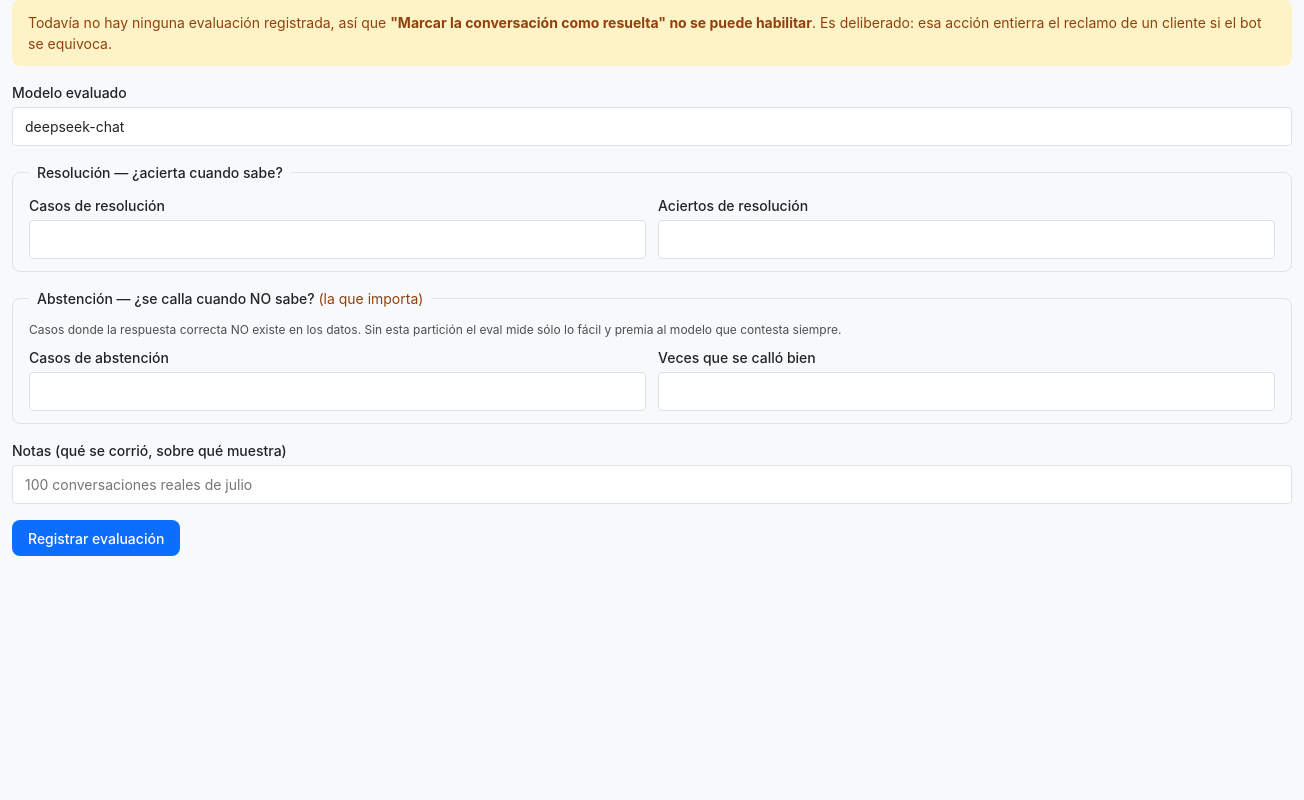
Test: AssistantEvalCard — el formulario exige medir abstención › con abstención en 0 NO deja registrar
Type "80" into the field labelled "Casos de resolución" at (338, 240), box top-left (29, 220), bottom-right (646, 259)
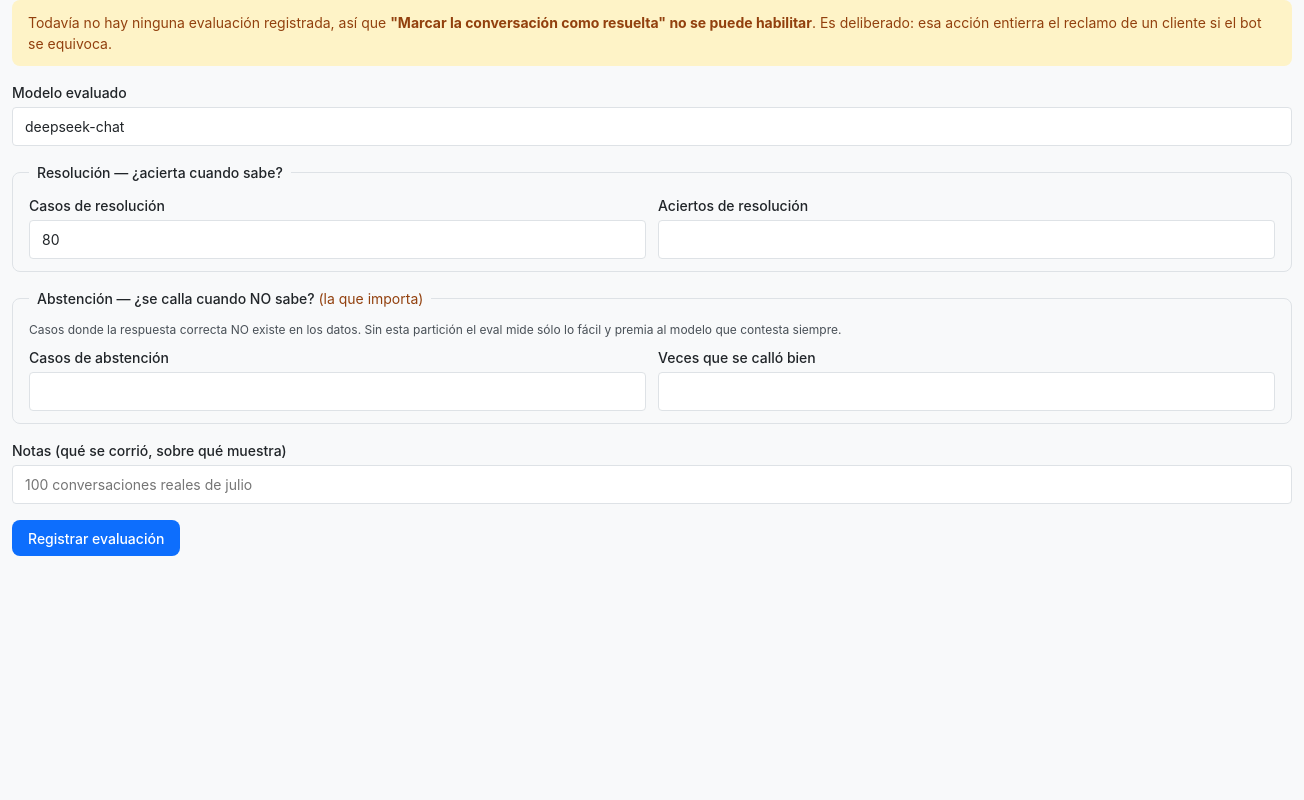
Type "68" into the field labelled "Aciertos de resolución" at (966, 240), box top-left (658, 220), bottom-right (1275, 259)
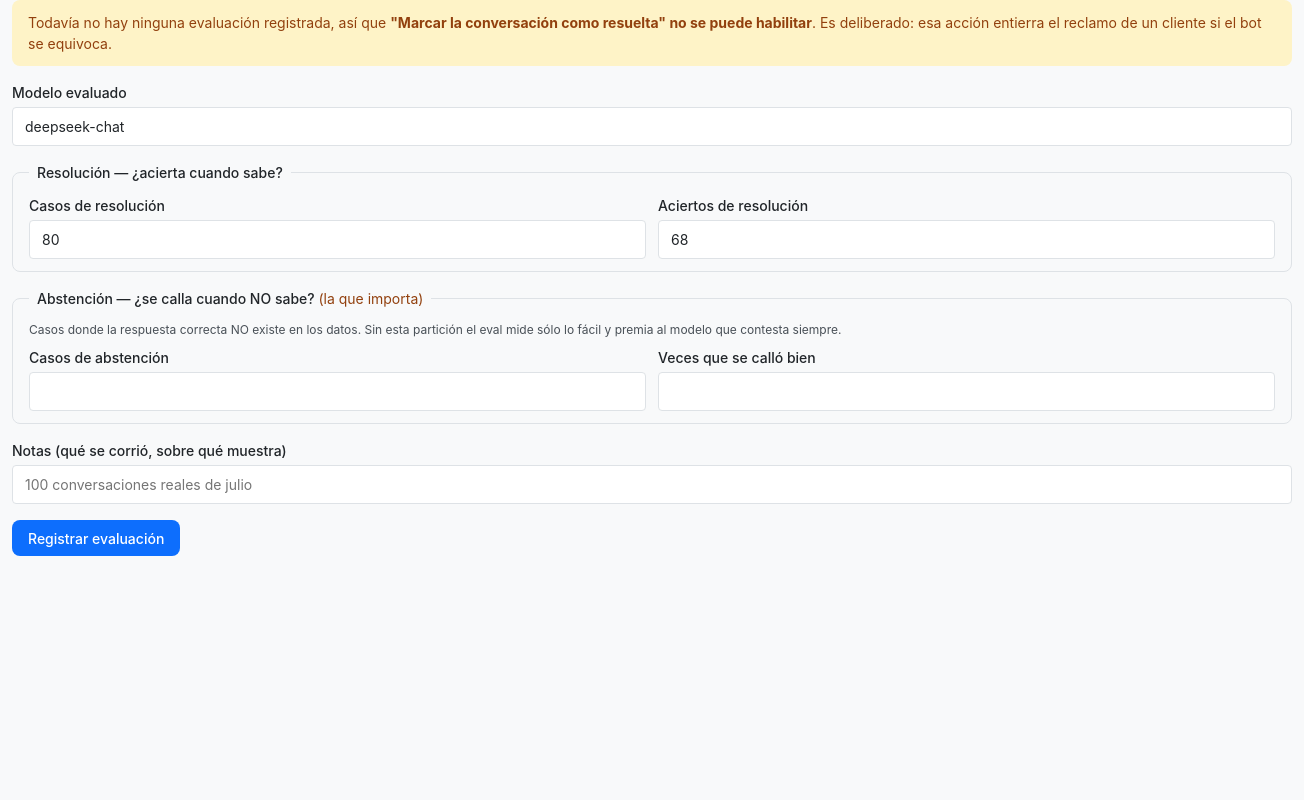
Type "0" into the field labelled "Casos de abstención" at (338, 392), box top-left (29, 372), bottom-right (646, 411)
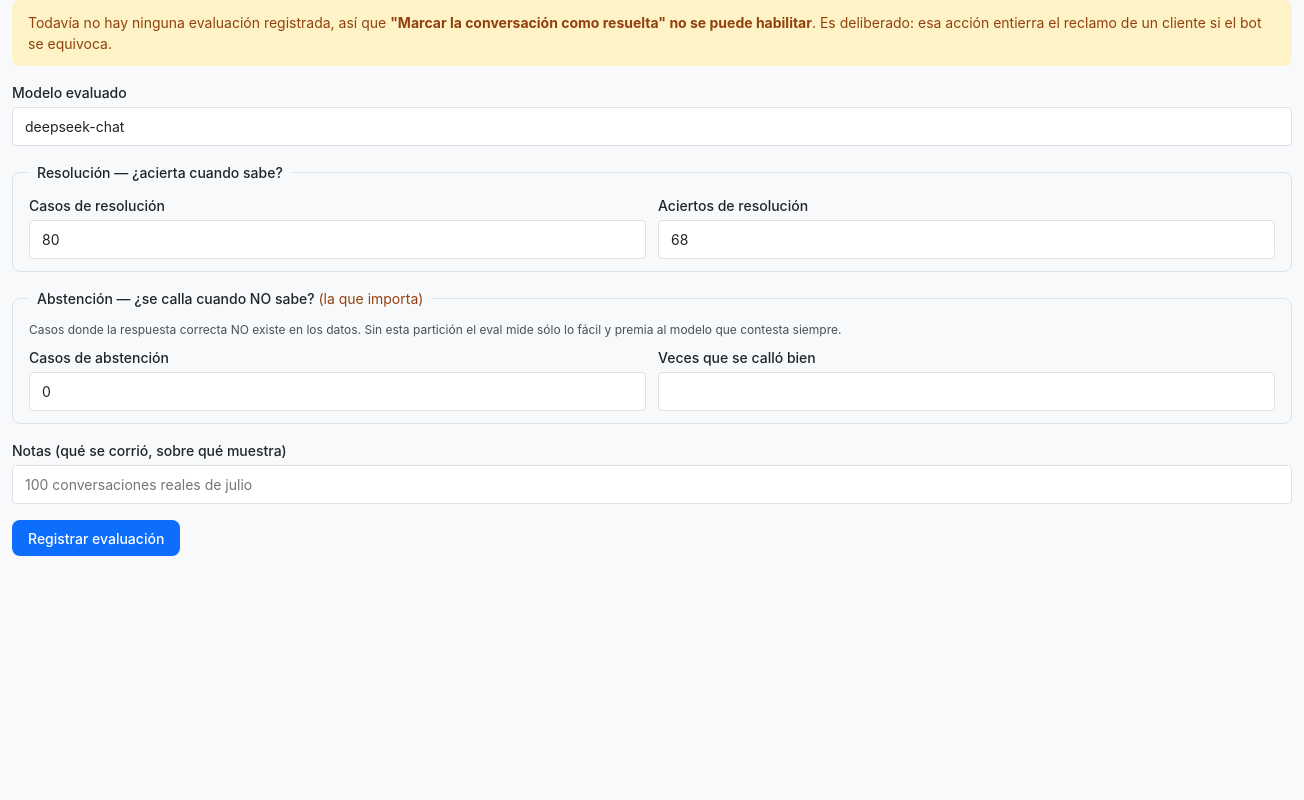
Type "0" into the field labelled "Veces que se calló bien" at (966, 392), box top-left (658, 372), bottom-right (1275, 411)
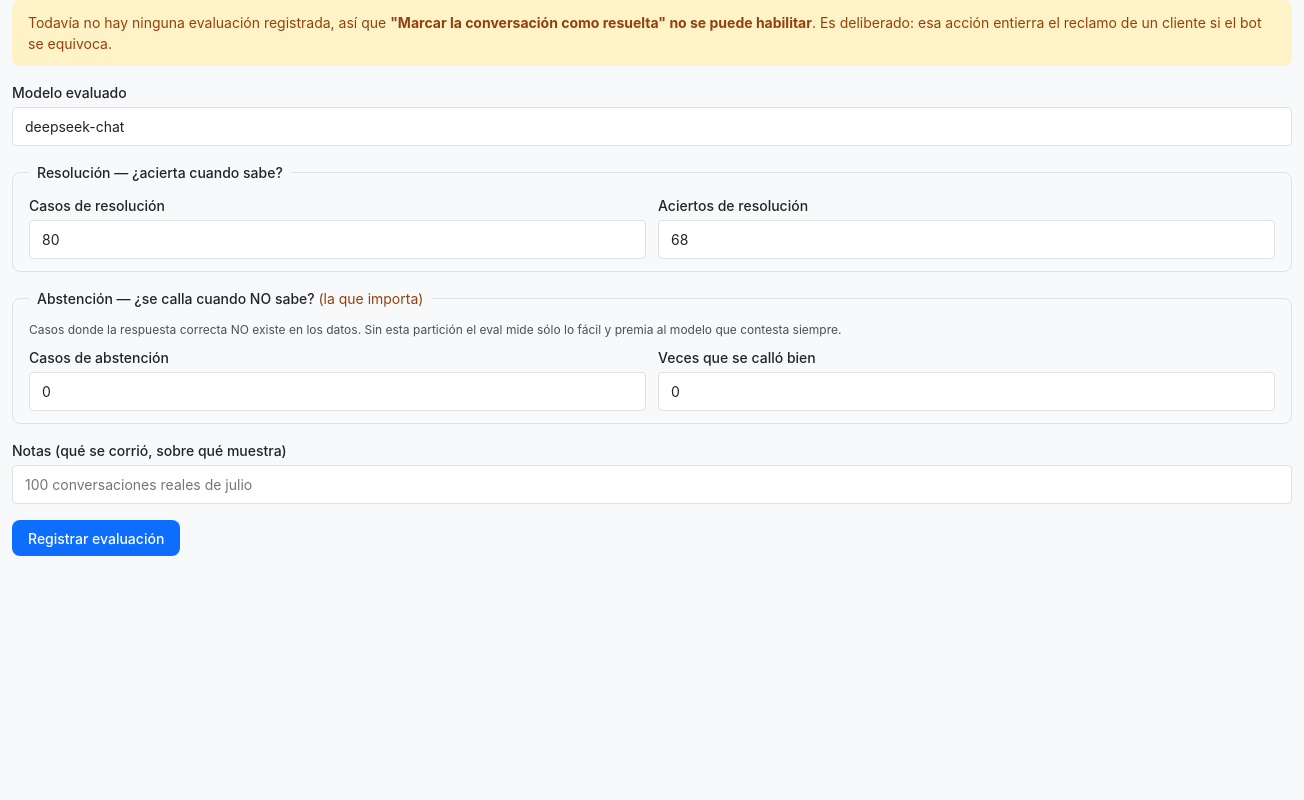
Click the button "Registrar evaluación" at (96, 538), box top-left (12, 520), bottom-right (180, 556)
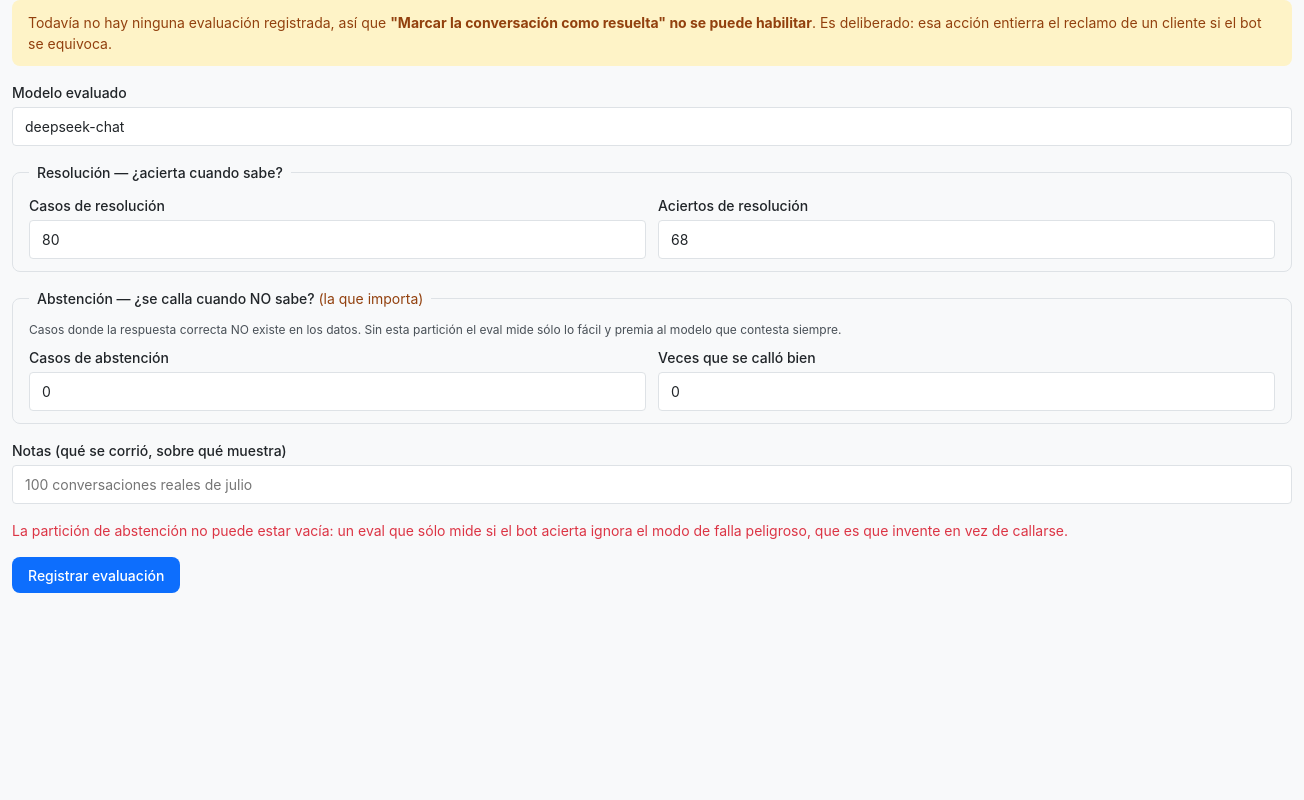
Result: the 2nd message shows "abstenci" at top-left (12, 522), bottom-right (1068, 539)
